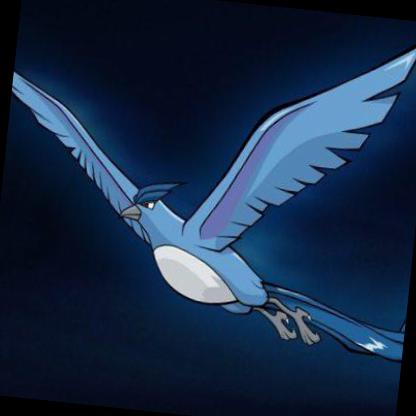Arktos: (45, 8, 415, 415)
